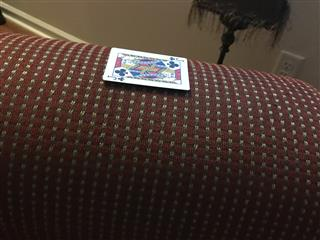JackOfClubs: (101, 46, 190, 90)
